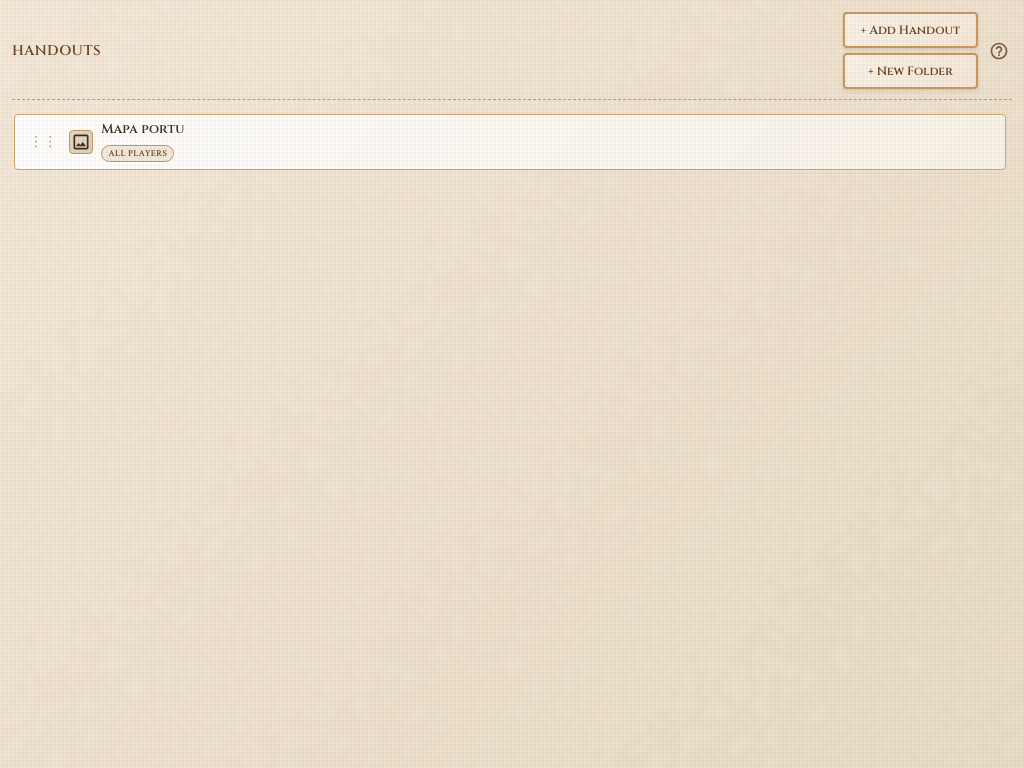
Test: HandoutsTab — reopening a minimized handout › restores the minimized viewer when the handout is clicked in the list again
What coordinates should you click on to do the following:
click the element with class "handout-item__content"
I would click on:
 (127, 141)
Its box is [69,120,185,162].
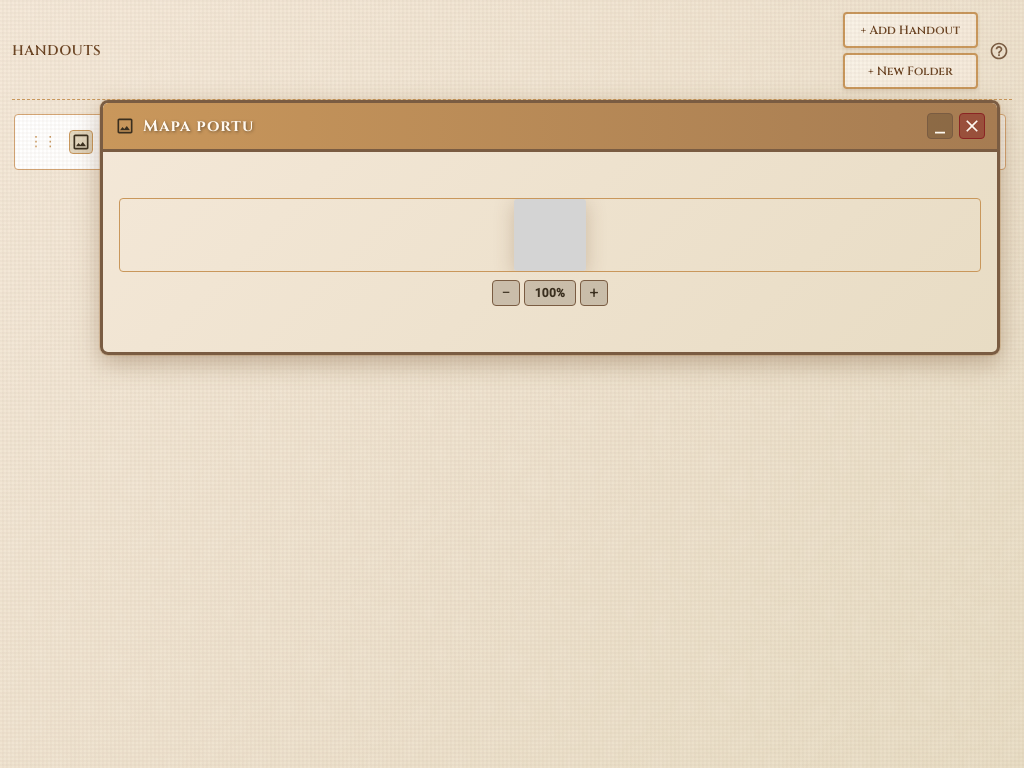
Now the element with class "handout-viewer" is shown, box [100,100,1000,355]
What coordinates should you click on to do the following:
click the button with class "modal-header__btn--minimize"
I would click on:
 (940, 126)
Its box is [927,113,953,139].
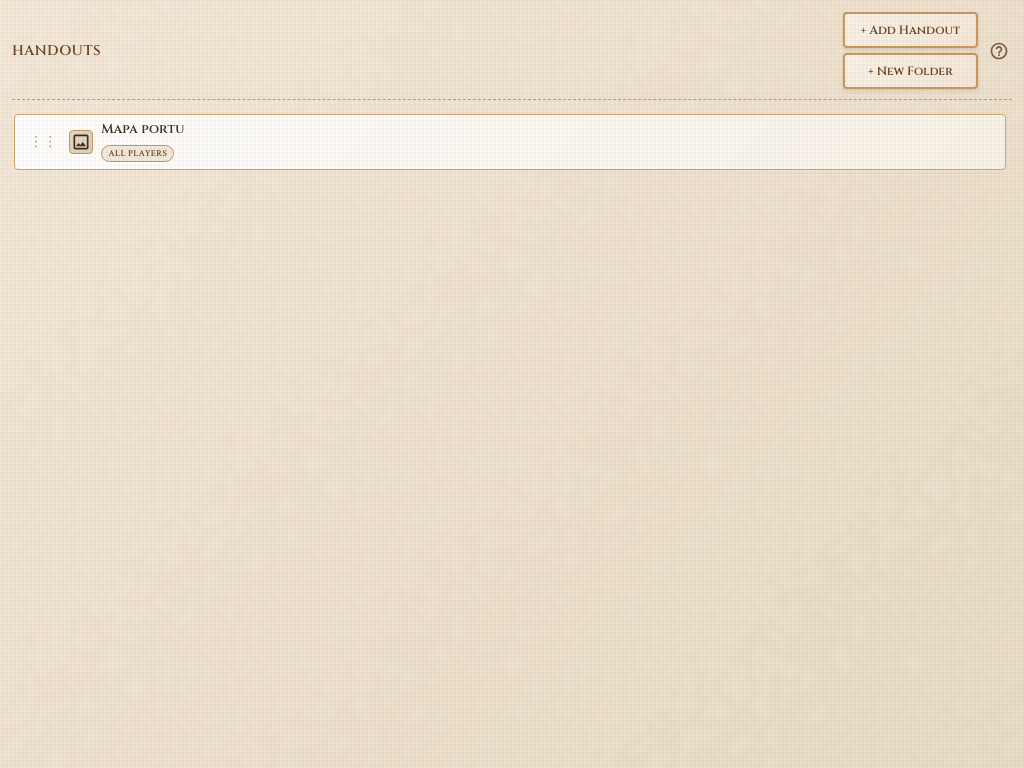
Now the element with class "handout-viewer" is gone
What coordinates should you click on to do the following:
click the element with class "handout-item__content"
I would click on:
 (127, 141)
Its box is [69,120,185,162].
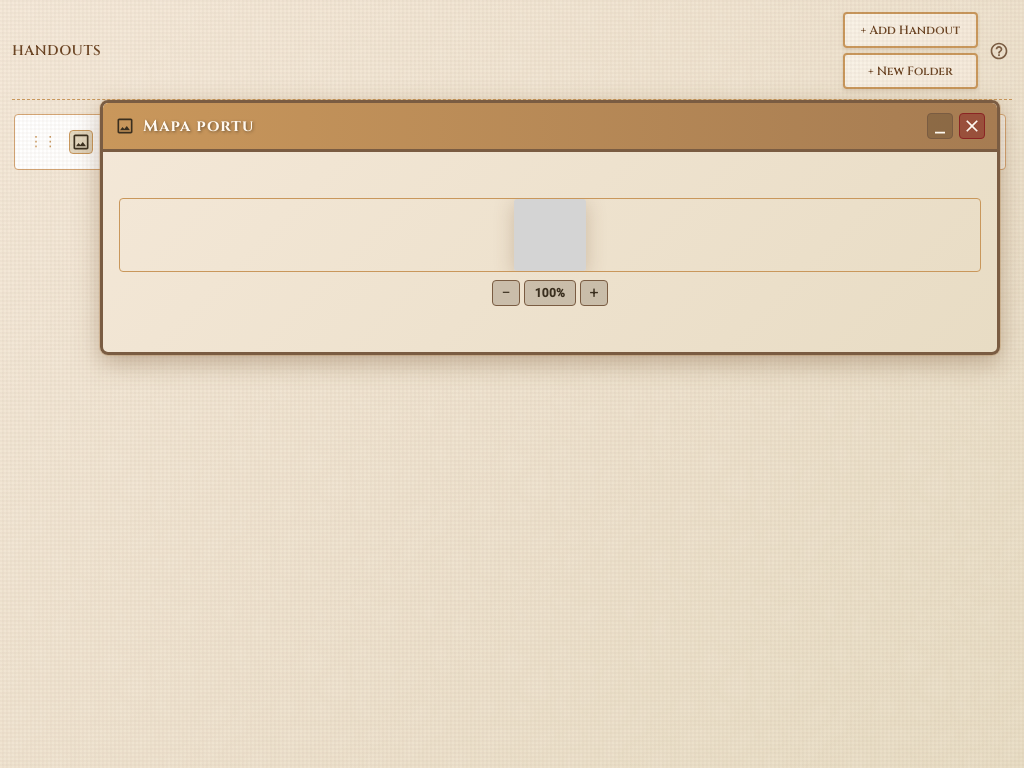
Now the element with class "handout-viewer" is shown, box [100,100,1000,355]
